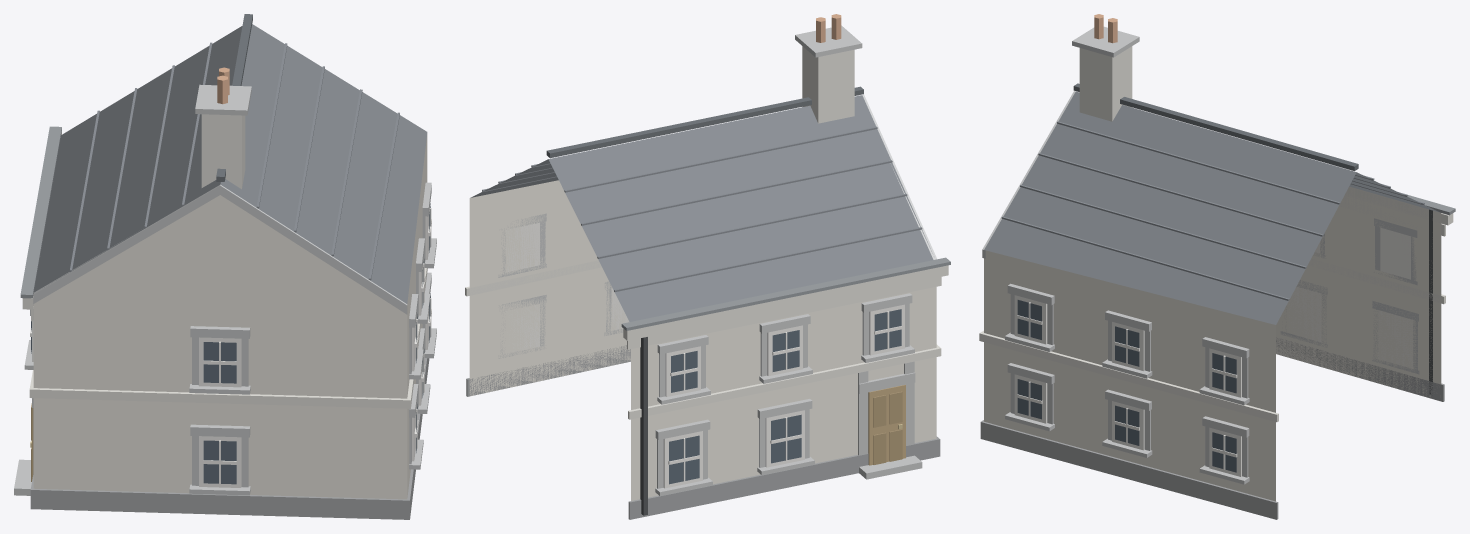
3 views of the same model, side by side, from view 1: azimuth 30°, elevation 25°; view 2: azimuth 150°, elevation 25°; view 3: azimuth 270°, elevation 25° (orthographic). The views are drawn at different scales.
Parts seen in each view (by area): view 1: harl_cream, slate, stone_band, plinth, string, slate_lt, frame, chim_render, lead, window_glass_006, window_glass_007, slate_dk; view 2: slate, harl_cream, stone_band, string, plinth, frame, slate_lt, chim_render, lead, slate_dk, door_wood_p, pipe (+6 smaller); view 3: harl_cream, slate, stone_band, frame, plinth, string, slate_lt, chim_render, slate_dk, window_glass_013, window_glass_009, window_glass_011 (+4 smaller).
Boxes of the visible parts, x1,y1,x2,y2 form: harl_cream: [33, 135, 427, 499]; slate: [34, 24, 427, 303]; stone_band: [14, 84, 436, 495]; plinth: [30, 358, 429, 519]; string: [22, 132, 427, 408]; slate_lt: [69, 42, 399, 280]; frame: [30, 207, 431, 487]; chim_render: [201, 114, 245, 189]; lead: [20, 126, 61, 298]; window_glass_006: [203, 440, 236, 484]; window_glass_007: [203, 342, 236, 383]; slate_dk: [216, 14, 252, 181]; slate: [470, 95, 933, 321]; harl_cream: [469, 180, 936, 500]; stone_band: [498, 25, 936, 495]; string: [465, 260, 948, 419]; plinth: [466, 345, 940, 519]; frame: [505, 222, 904, 488]; slate_lt: [482, 126, 922, 291]; chim_render: [802, 46, 854, 123]; lead: [621, 257, 950, 330]; slate_dk: [546, 86, 863, 158]; door_wood_p: [873, 391, 902, 464]; pipe: [640, 337, 647, 515]; harl_cream: [984, 186, 1441, 501]; slate: [984, 91, 1440, 324]; stone_band: [982, 26, 1419, 484]; frame: [1014, 227, 1412, 476]; plinth: [980, 337, 1444, 519]; string: [979, 187, 1453, 422]; slate_lt: [1001, 121, 1424, 300]; chim_render: [1079, 46, 1132, 121]; slate_dk: [1073, 83, 1358, 170]; window_glass_013: [1212, 353, 1236, 393]; window_glass_009: [1017, 300, 1041, 339]; window_glass_011: [1115, 326, 1139, 366].
Bounding box in the file's own units: 11.58 × 9.84 × 11.44.
